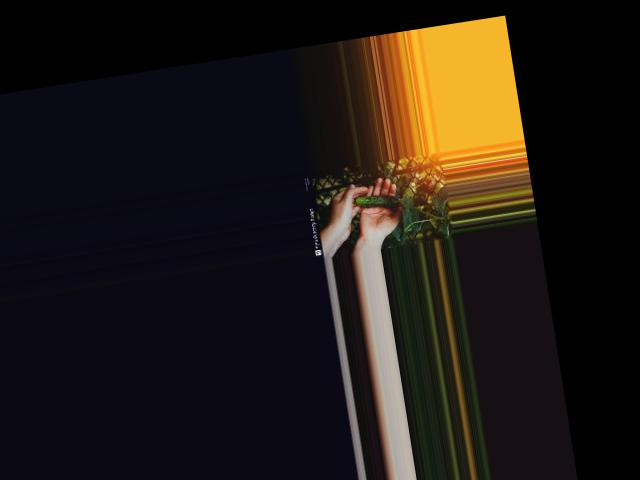cucumber: (354, 190, 399, 212)
